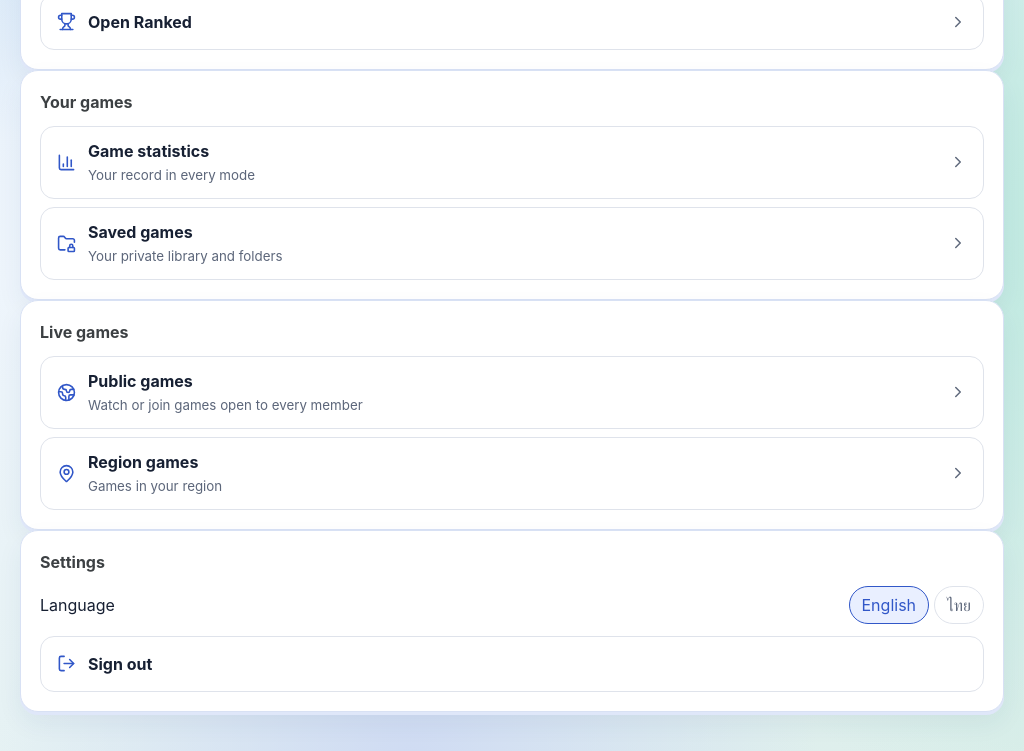
it: Me › switches the whole page to Thai when the player chooses it
(page scrolled)
Click the button "ไทย" at (959, 605), box [934,586,984,624]
(page scrolled)
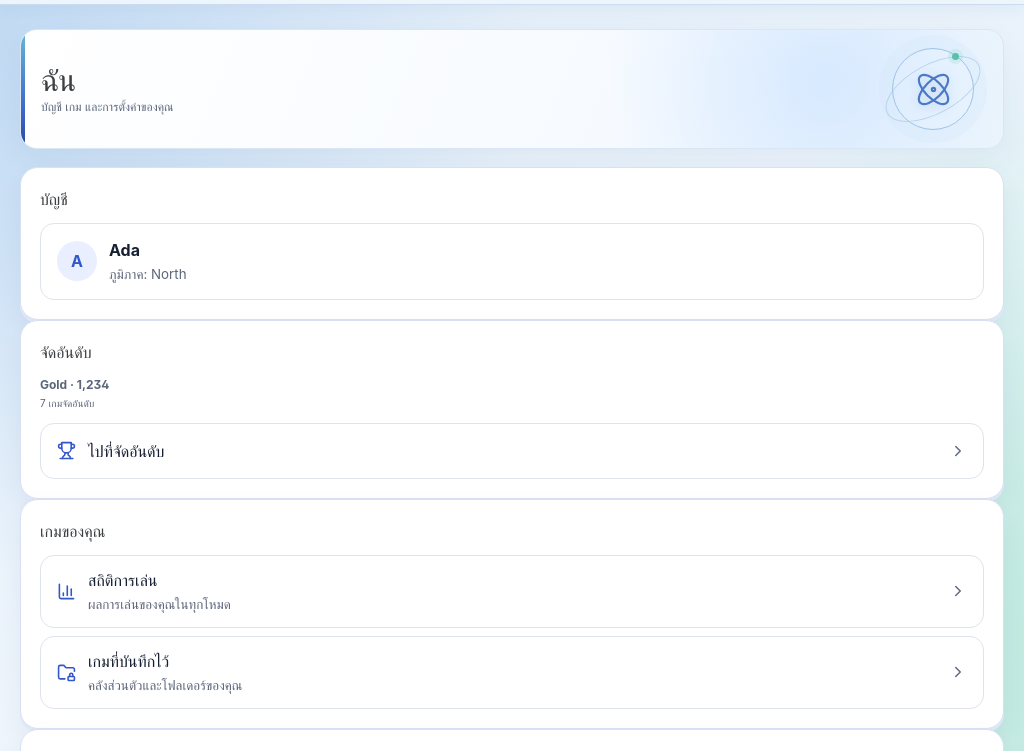
Expected: the text "Gold · 1,234" is shown, [40,377,110,392]
Now the heading "ฉัน" is shown, box [41,62,75,98]
